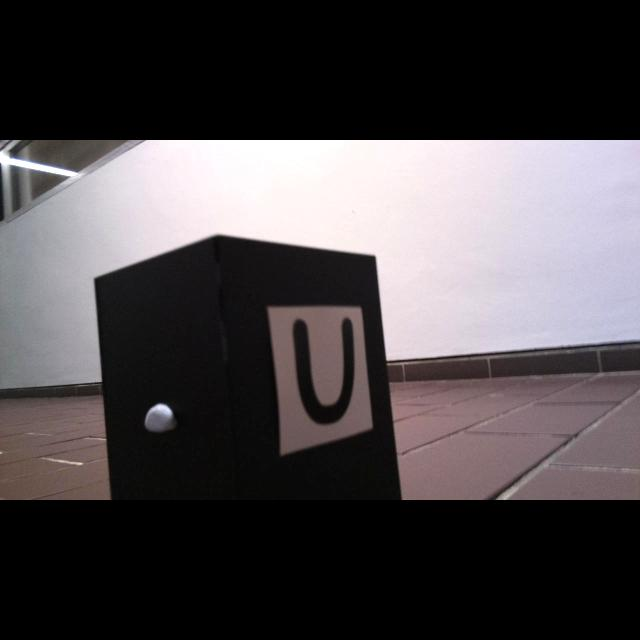U: (293, 318, 356, 426)
